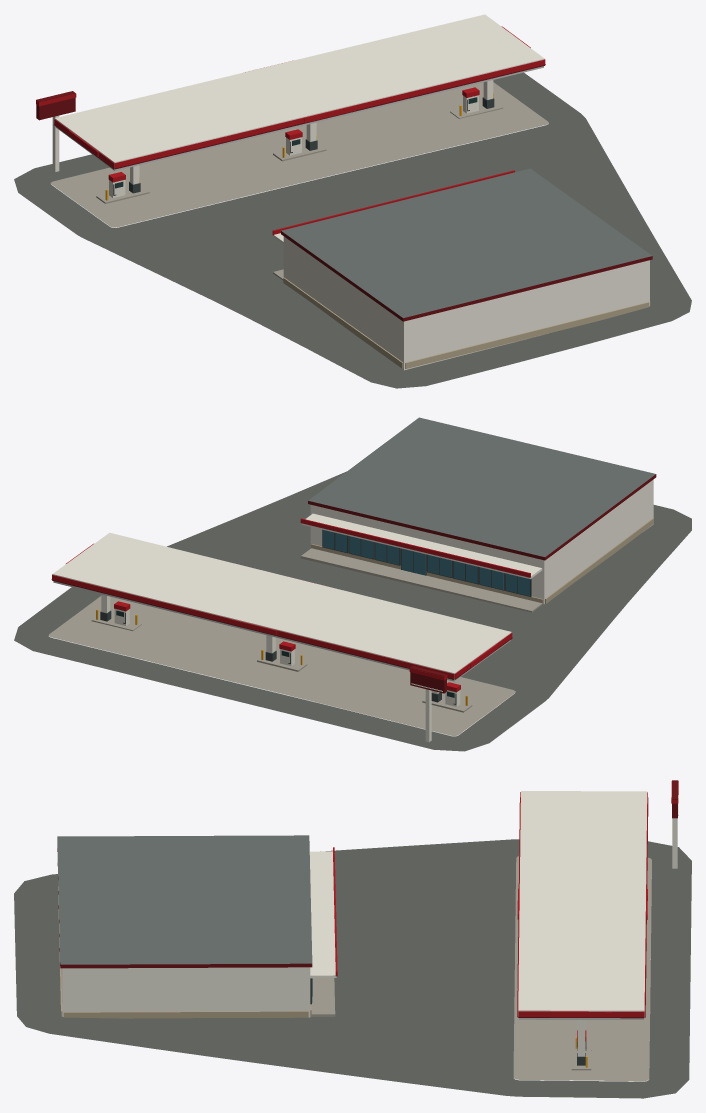
Rendered from ValeroLoop499.glb.
The picture shows the model from 3 angles, top to bottom: view 1: azimuth 30°, elevation 25°; view 2: azimuth 150°, elevation 25°; view 3: azimuth 270°, elevation 25°; orthographic projection. The views are drawn at different scales.
Parts seen in each view (by area): view 1: ValeroLoop499; view 2: ValeroLoop499; view 3: ValeroLoop499.
Part boxes in pixels (x1,y1,x2,y2): ValeroLoop499: (14, 14, 691, 388); ValeroLoop499: (14, 417, 691, 751); ValeroLoop499: (14, 780, 691, 1098).
Size of the model in its own units: 42.25 by 6.09 by 47.03.
